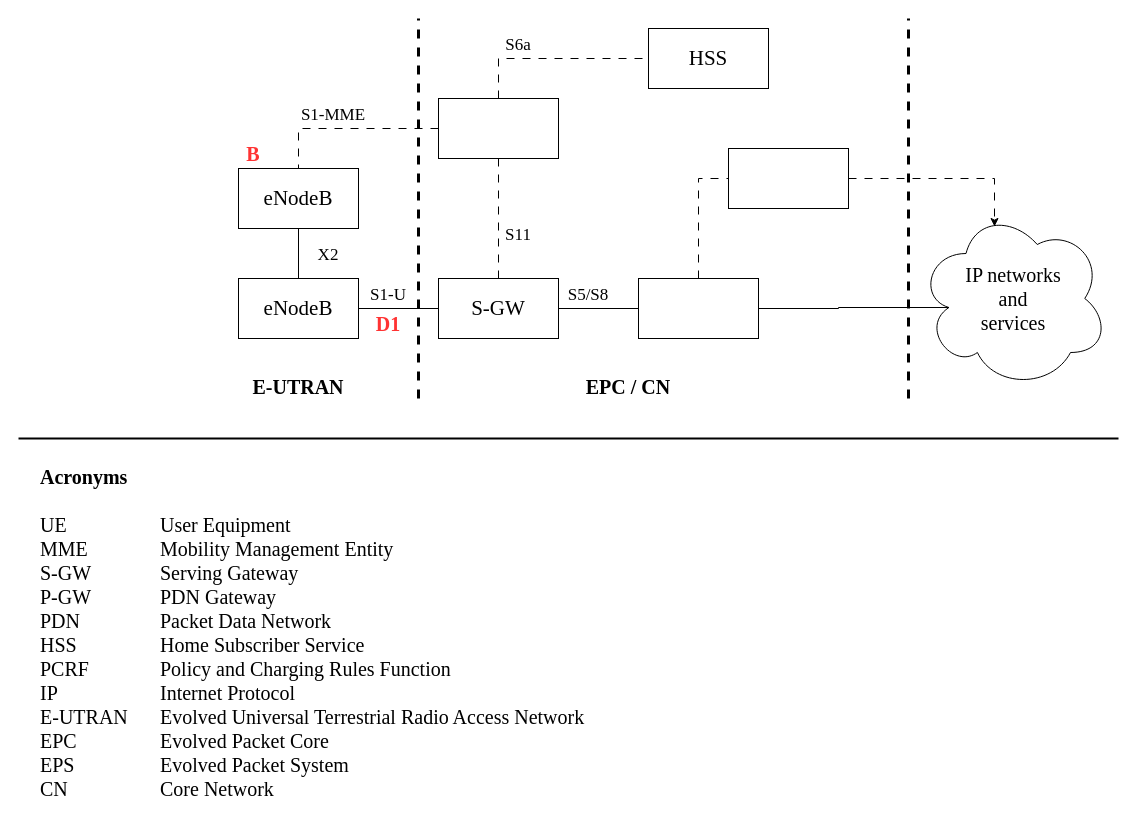
Some shapes in this 1137 by 819 pixel diagram are drawn without their labels. Here are the shapes that lost their labels. From the top down, the centre of each, then its label:
At (x=498, y=128): "MME".
At (x=788, y=178): "PCRF".
At (x=698, y=308): "P-GW".
